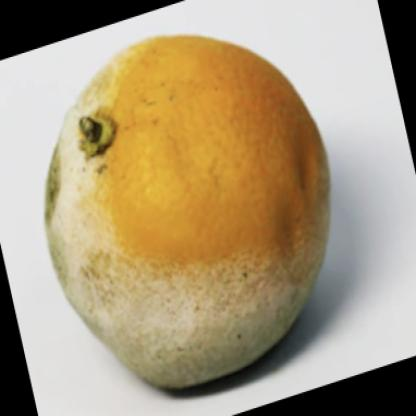rotten: (45, 38, 333, 392)
